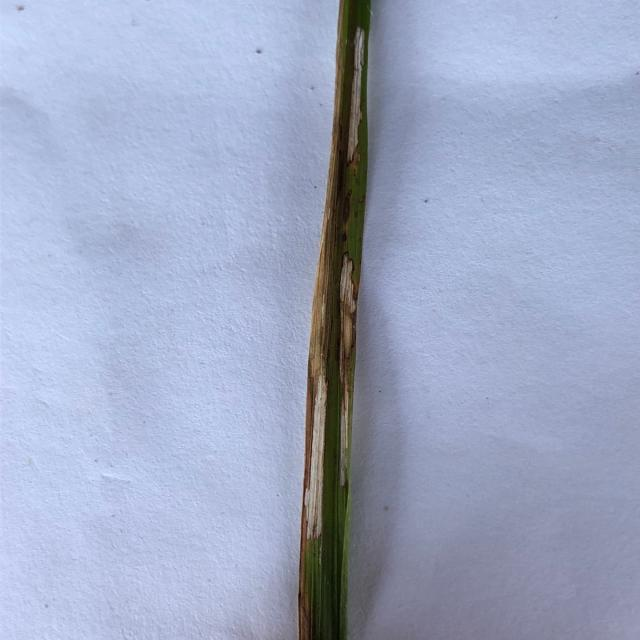Bacterial_Leaf_Blight: (302, 198, 335, 544), (335, 254, 351, 492), (342, 26, 367, 161)
